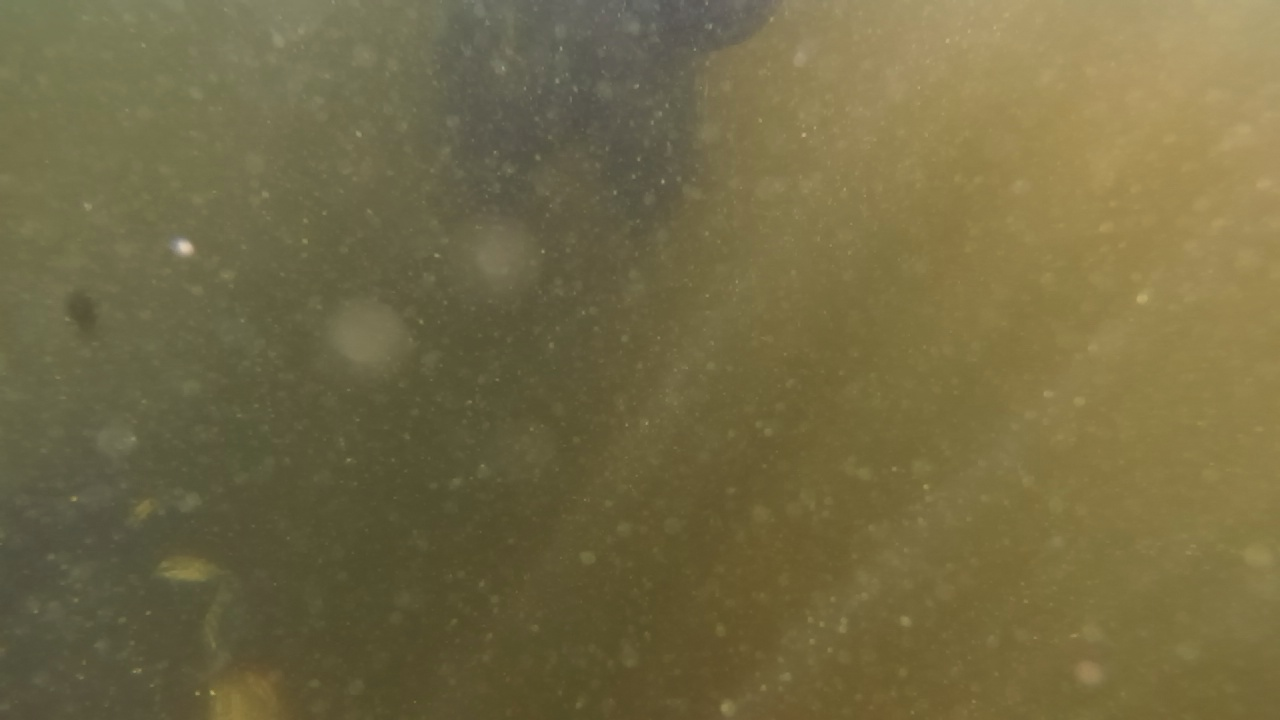Diver: (406, 0, 796, 220)
